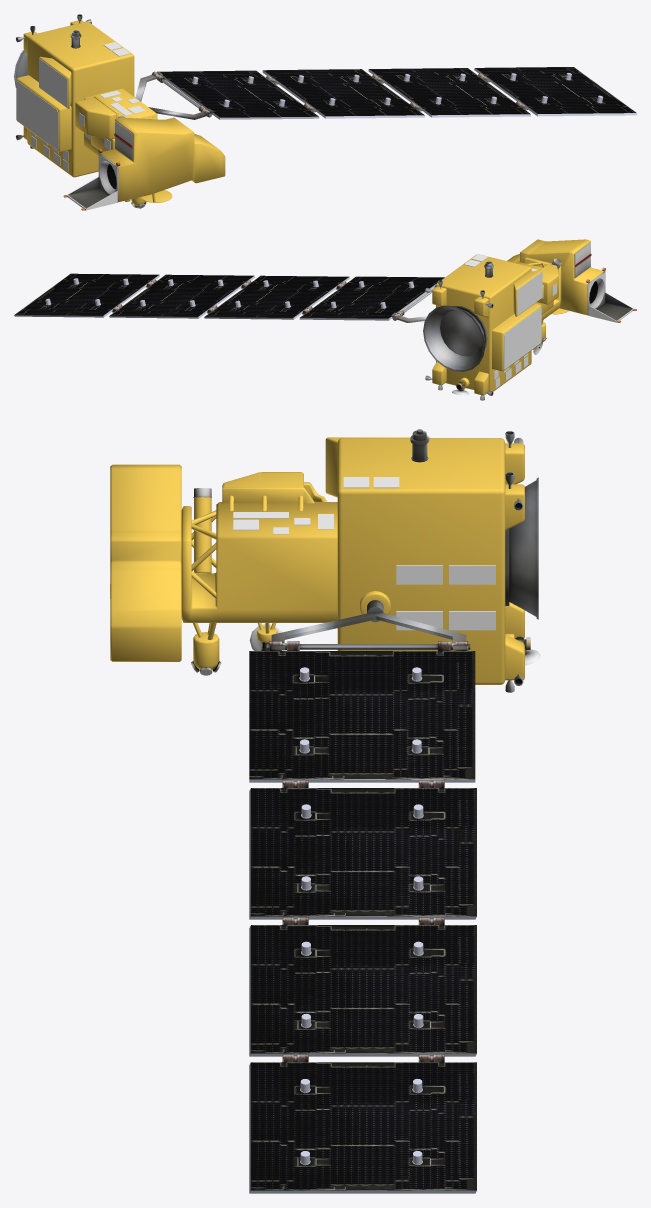
Rendered from Landsat.gltf.
The picture shows the model from 3 angles, top to bottom: view 1: azimuth 30°, elevation 25°; view 2: azimuth 150°, elevation 25°; view 3: azimuth 270°, elevation 25°; orthographic projection. The views are drawn at different scales.
Parts seen in each view (by area): view 1: node_instruments_-5266, node_BUS_-5260, node_Reflectors_-5268, node_solar_cylinders_-5278; view 2: node_instruments_-5266, node_BUS_-5260, node_Reflectors_-5268, node_solar_cylinders_-5278; view 3: node_instruments_-5266, node_BUS_-5260, node_Reflectors_-5268, node_solar_cylinders_-5278.
Part boxes in pixels (bbox=[...]): node_instruments_-5266: bbox=[14, 14, 636, 210]; node_BUS_-5260: bbox=[16, 20, 225, 206]; node_Reflectors_-5268: bbox=[16, 42, 145, 171]; node_solar_cylinders_-5278: bbox=[192, 73, 603, 107]; node_instruments_-5266: bbox=[14, 242, 636, 400]; node_BUS_-5260: bbox=[432, 239, 604, 395]; node_Reflectors_-5268: bbox=[464, 254, 556, 388]; node_solar_cylinders_-5278: bbox=[45, 278, 414, 308]; node_instruments_-5266: bbox=[191, 429, 540, 1193]; node_BUS_-5260: bbox=[110, 437, 524, 684]; node_Reflectors_-5268: bbox=[233, 477, 495, 630]; node_solar_cylinders_-5278: bbox=[299, 667, 423, 1165].
Bounding box in the file's own units: 13.4 × 3.78 × 4.7.
7 materials, 3 textured.
